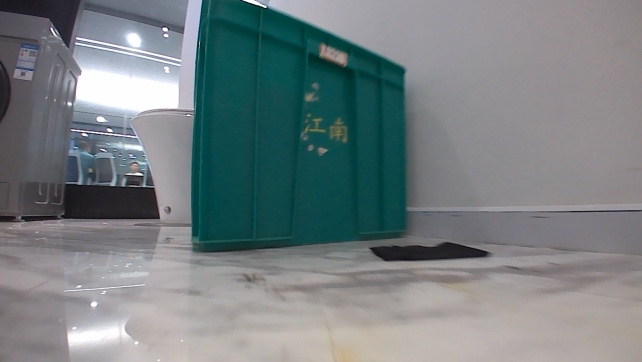socks: (365, 238, 491, 266)
toilet: (129, 105, 192, 227)
washing_machine1: (0, 8, 83, 222)
